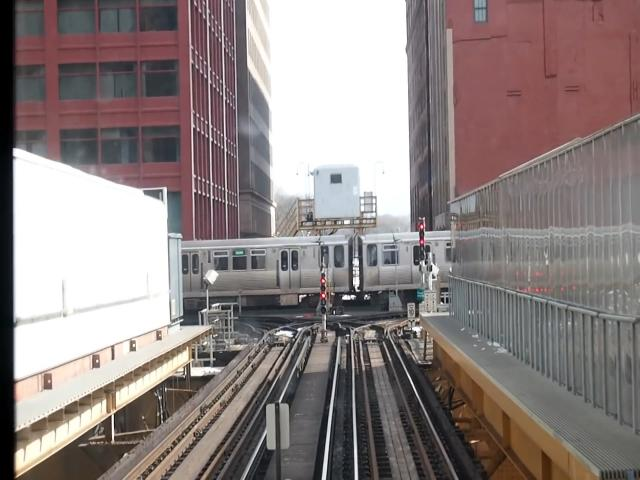signal light: (321, 270, 329, 319), (419, 219, 427, 262)
